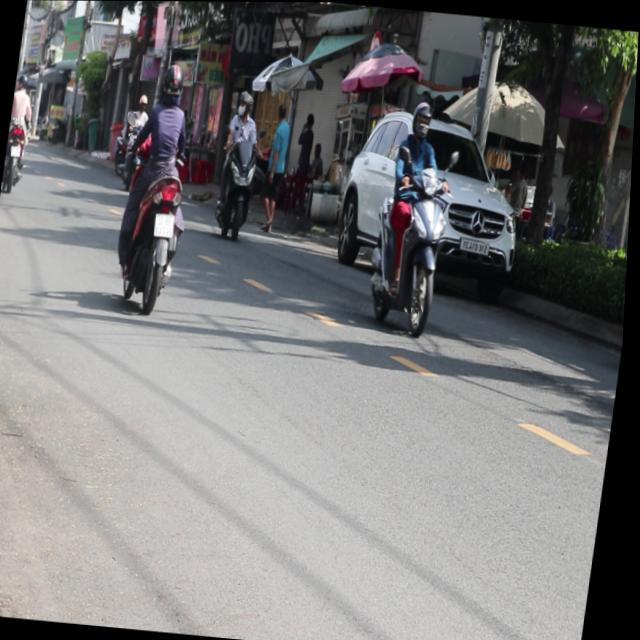helmet: (160, 61, 188, 105), (411, 98, 436, 139), (238, 89, 254, 116)
licenseplate: (110, 57, 209, 313), (364, 94, 467, 335), (212, 86, 271, 240)
nohelmet: (156, 211, 178, 237)
